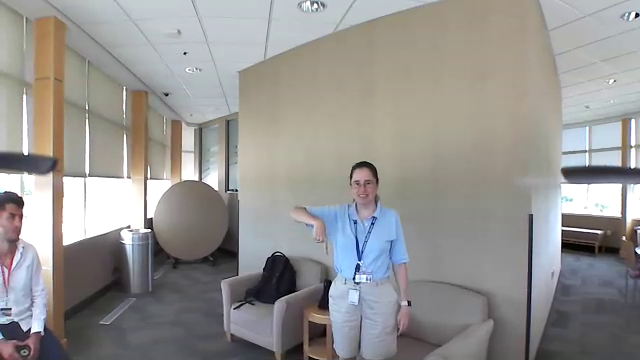down: (304, 217, 336, 260)
